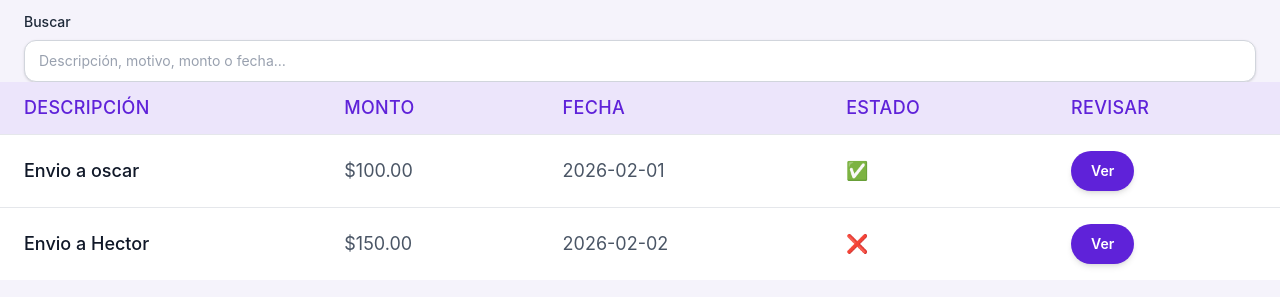
Test case: TableMovements › shows the no-results state for an unmatched query
The width and height of the screenshot is (1280, 297).
Type "nope" into the search field with test id "movements-search-input" at x=640, y=61, box [24, 40, 1256, 82]
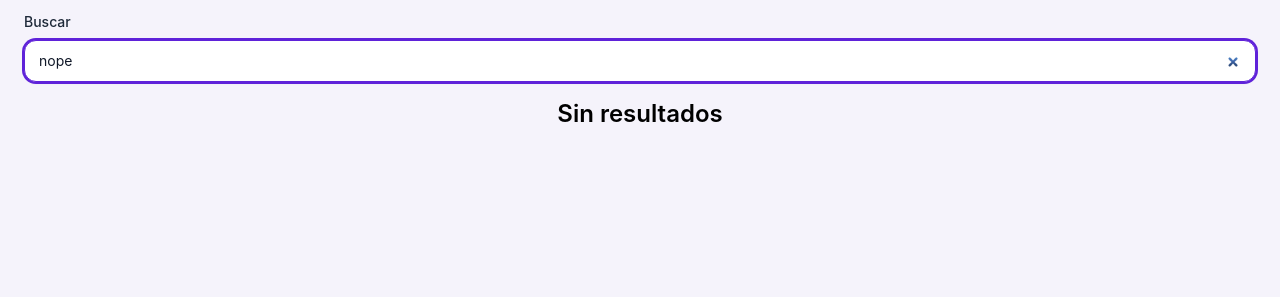
Expected: the heading with test id "movements-search-empty" reads "Sin resultados", [557, 99, 723, 128]
Expected: no rows with test id "movement-row" are shown
